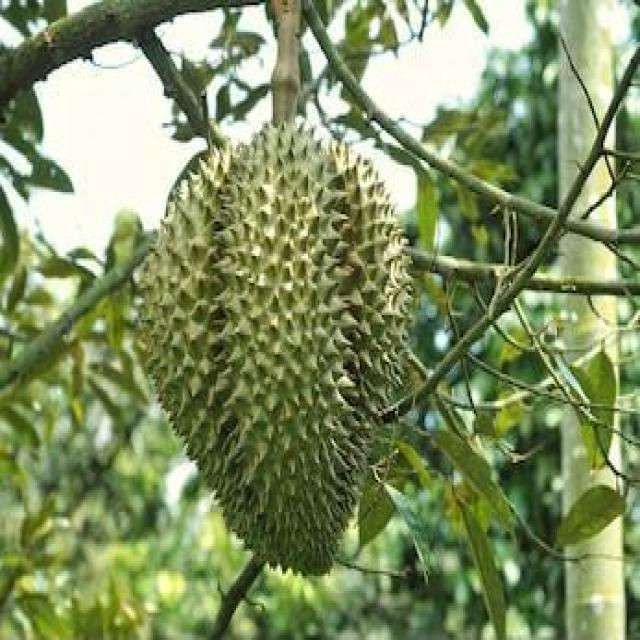immature: (132, 122, 414, 580)
